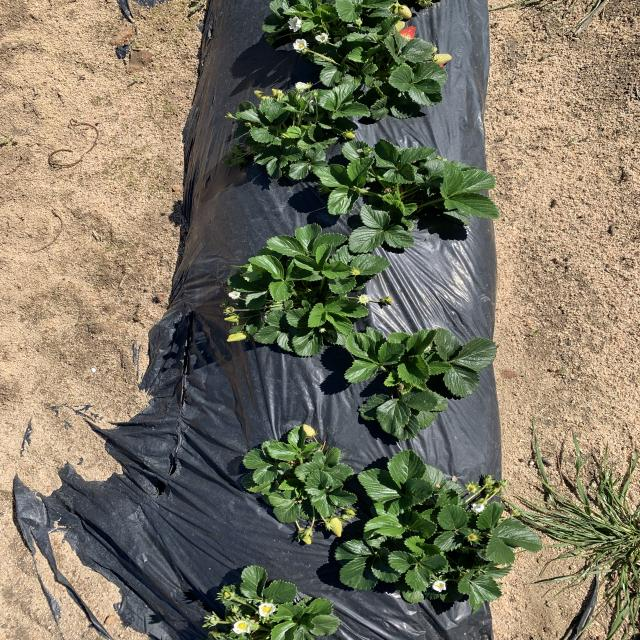unripe: (398, 26, 417, 42)
